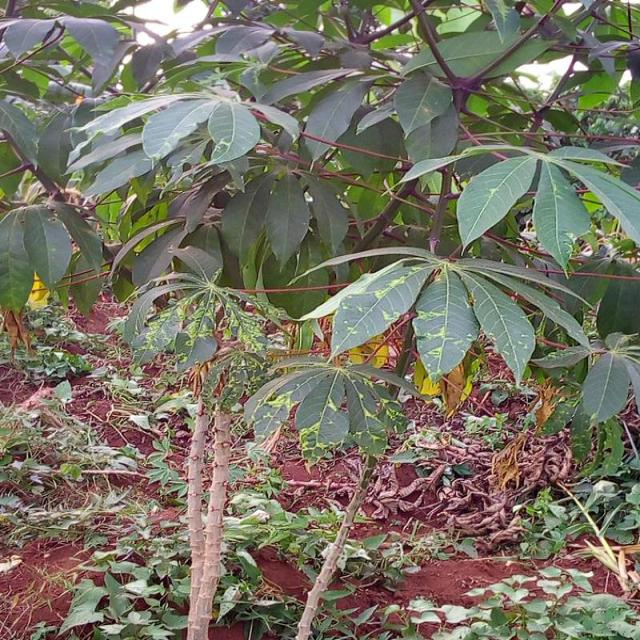cassava leaf: (455, 152, 537, 254), (412, 264, 479, 383), (531, 156, 591, 275)
